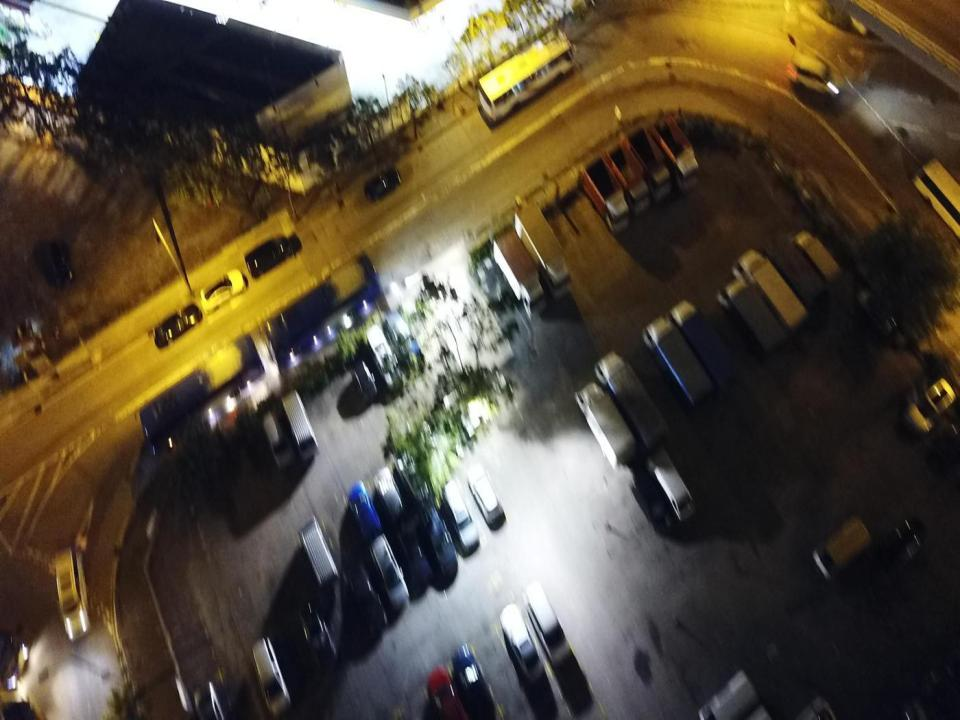bus: (138, 332, 265, 454), (265, 250, 385, 376), (478, 26, 578, 129), (911, 157, 960, 247)
car: (500, 603, 544, 682), (452, 644, 498, 719), (252, 637, 292, 716), (347, 562, 389, 633), (370, 532, 408, 610), (877, 516, 927, 571), (396, 518, 433, 590), (300, 602, 336, 671), (466, 460, 503, 524), (152, 303, 202, 349), (428, 666, 470, 719), (347, 480, 382, 541), (199, 268, 246, 312), (396, 444, 431, 503), (374, 465, 408, 525), (262, 409, 295, 470), (45, 240, 73, 287), (364, 167, 401, 202), (194, 682, 226, 719), (351, 355, 377, 400)
truck: (593, 350, 670, 452), (643, 314, 713, 408), (732, 248, 808, 334), (515, 199, 573, 298), (671, 298, 737, 385), (575, 378, 637, 468), (717, 279, 785, 357), (764, 231, 825, 312), (493, 228, 546, 319), (651, 111, 699, 193), (582, 155, 630, 235), (626, 125, 671, 205), (606, 142, 650, 219), (794, 228, 842, 286)
van: (813, 512, 872, 581), (646, 444, 696, 524), (525, 581, 571, 667), (54, 546, 91, 644), (418, 498, 458, 583), (904, 376, 956, 440), (297, 514, 339, 589), (696, 671, 760, 719), (280, 388, 320, 462), (630, 467, 672, 534), (442, 480, 480, 554), (385, 312, 426, 373), (366, 322, 403, 388), (244, 236, 292, 280), (789, 53, 835, 94)
